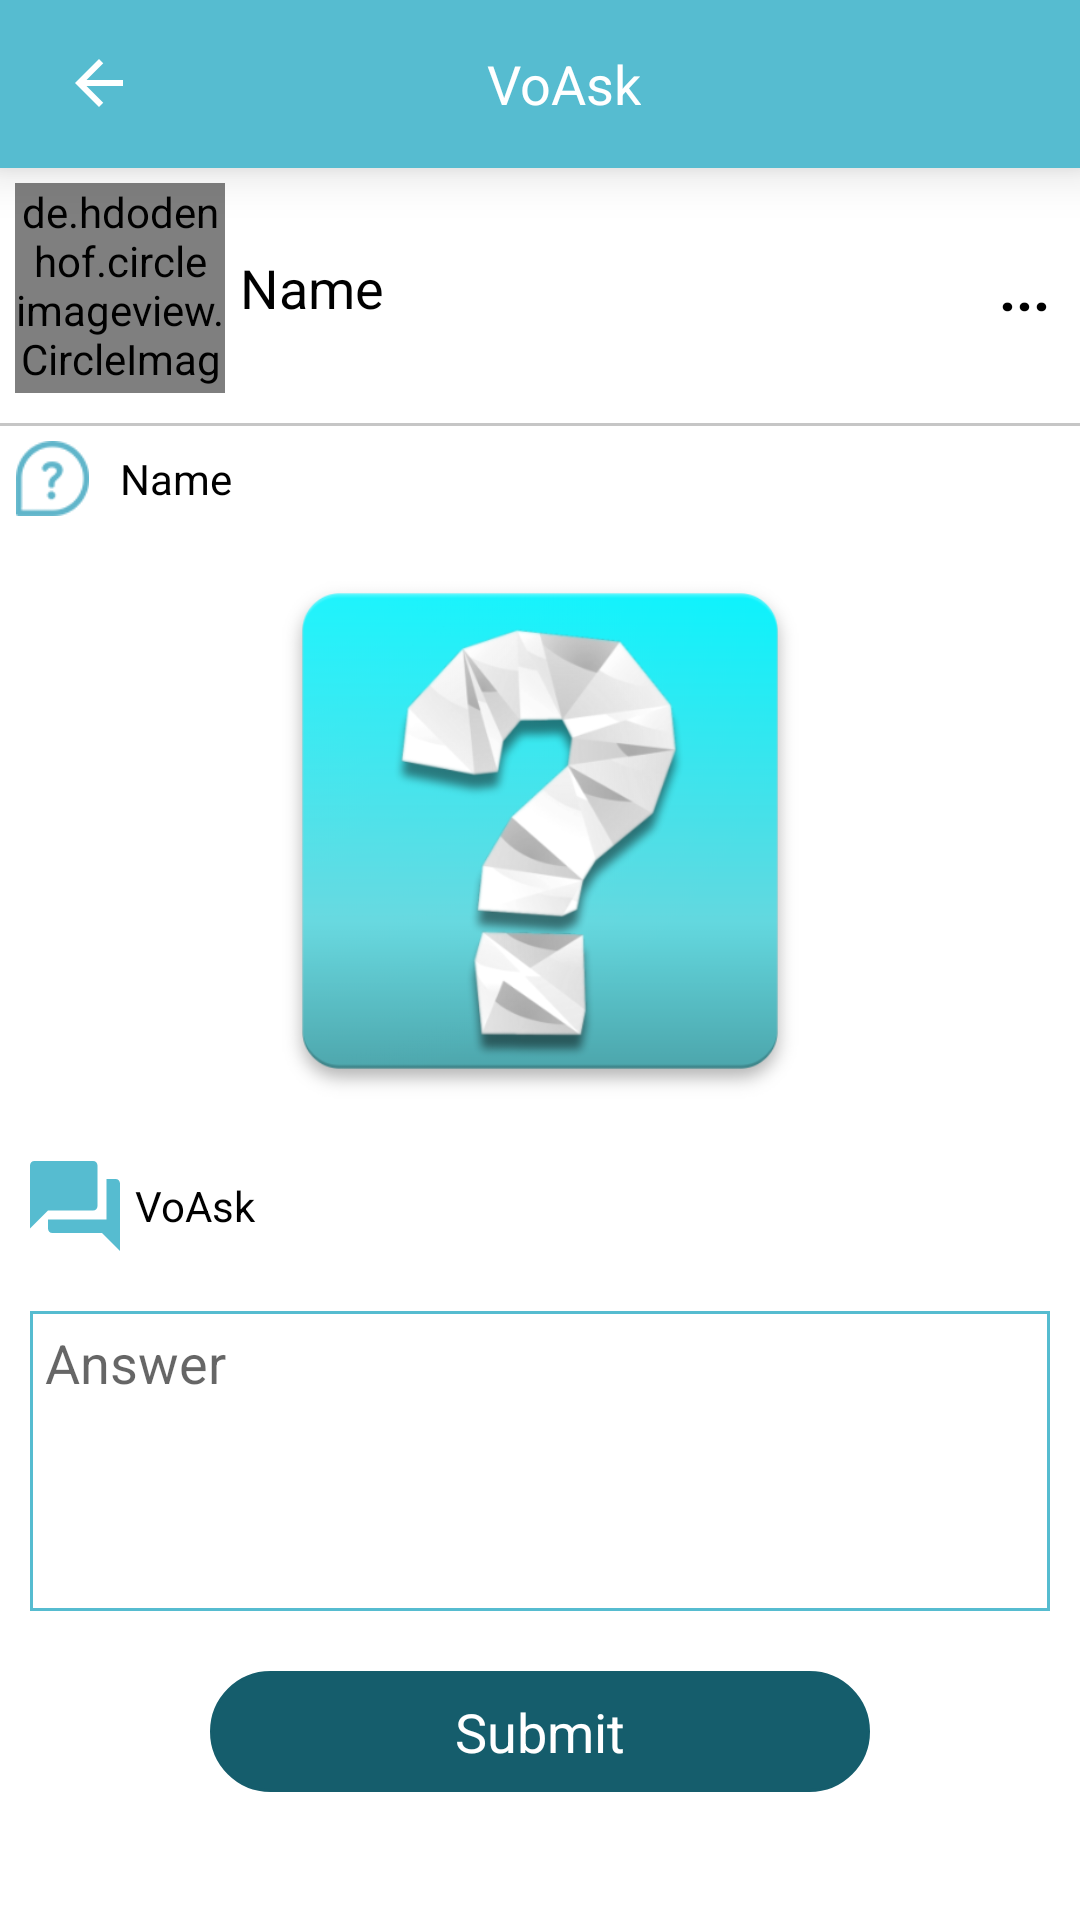

Icons on this 1080*1920 Android screen, each with the point to tap as (x,y):
back: (99,83)
